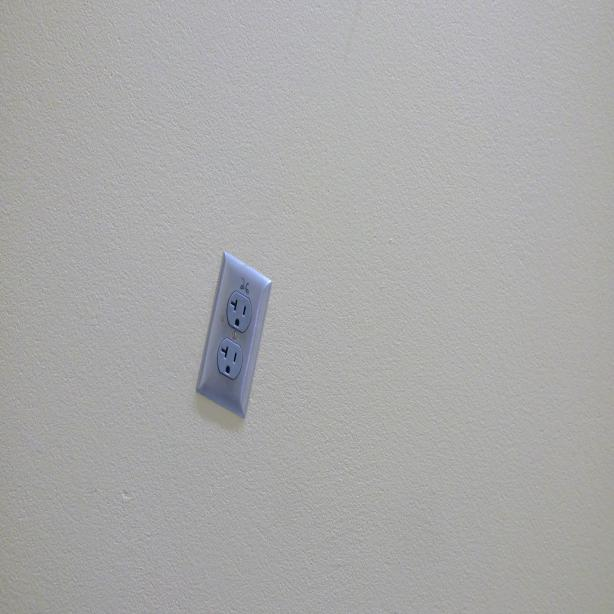typeb: (227, 289, 253, 331), (219, 337, 243, 381)
